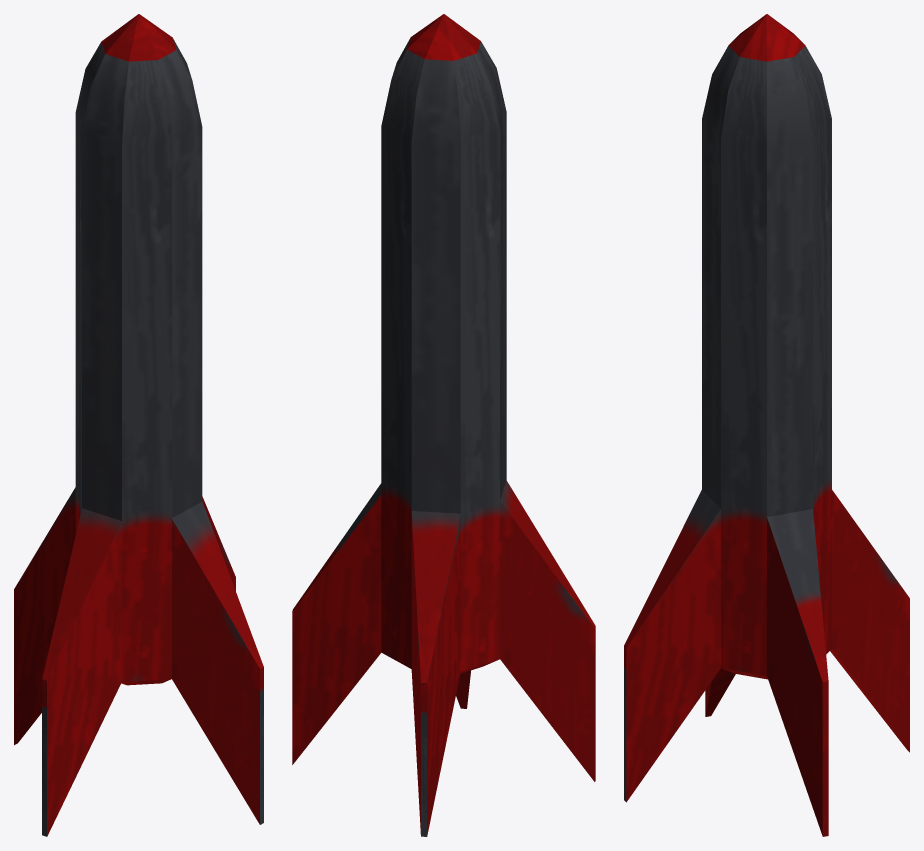
File: Rocket.fbx
The picture shows the model from 3 angles, left to right: view 1: azimuth 30°, elevation 25°; view 2: azimuth 150°, elevation 25°; view 3: azimuth 270°, elevation 25°; orthographic projection.
Parts seen in each view (by area): view 1: pCylinder1; view 2: pCylinder1; view 3: pCylinder1.
Boxes of the visible parts, box(x1,y1,x2,y2) form: pCylinder1: box(14, 14, 263, 836); pCylinder1: box(292, 14, 595, 836); pCylinder1: box(624, 14, 909, 836).
Size of the model in its own units: 4.4 by 12.93 by 4.4.
